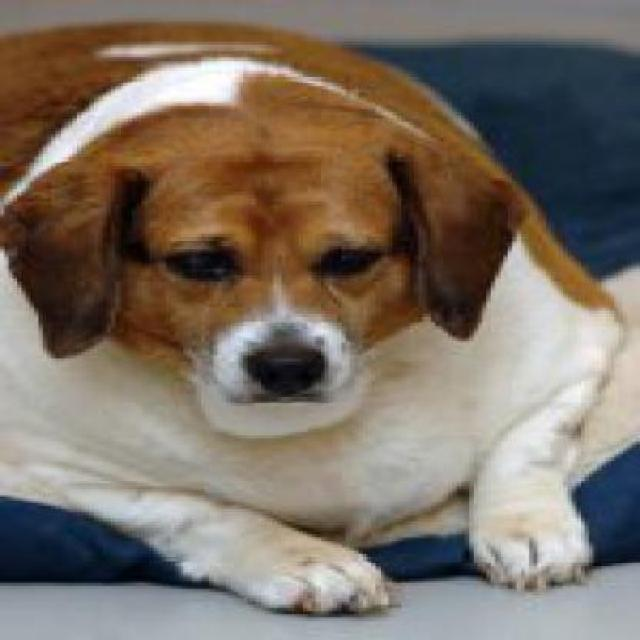Dog: (0, 16, 635, 618)
